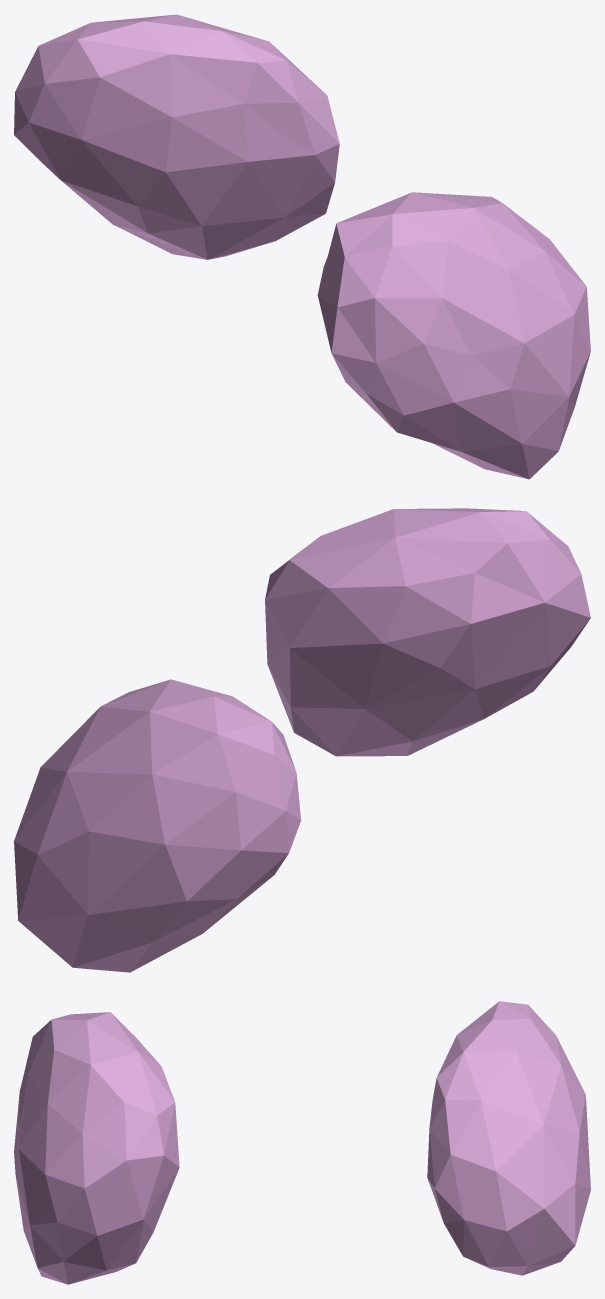
3 renders of one model, top to bottom at view 1: azimuth 30°, elevation 25°; view 2: azimuth 150°, elevation 25°; view 3: azimuth 270°, elevation 25°, orthographic. The views are drawn at different scales.
Visible parts, largest first — view 1: 231.obj; view 2: 231.obj; view 3: 231.obj.
Boxes of the visible parts, x1,y1,x2,y2 form: 231.obj: (14,14,590,479); 231.obj: (14,508,590,972); 231.obj: (14,1001,590,1284).
Size of the model in its own units: 324 by 296 by 712.
